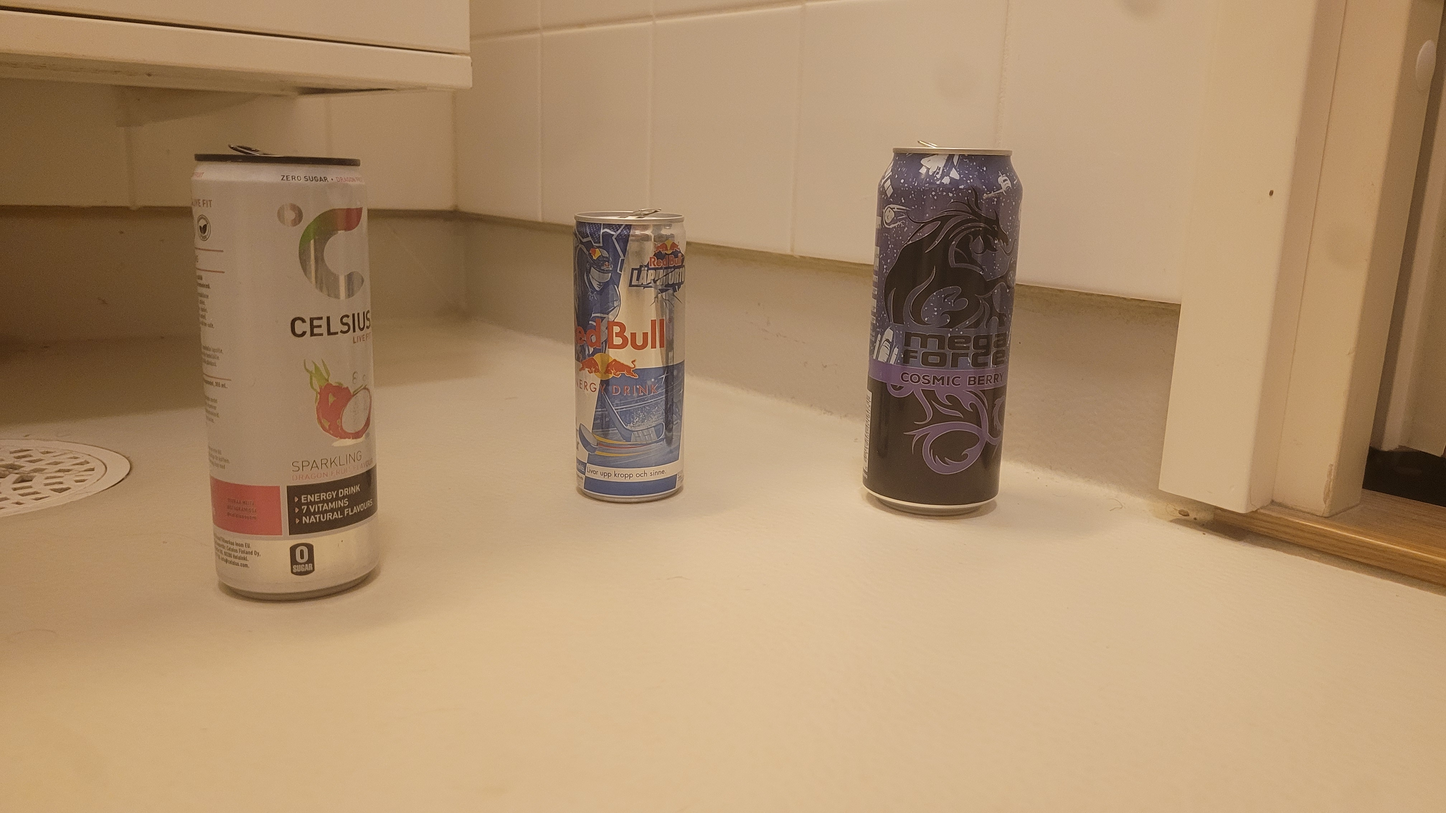Pantburk: (190, 145, 382, 602), (861, 143, 1023, 517), (574, 211, 688, 504)
